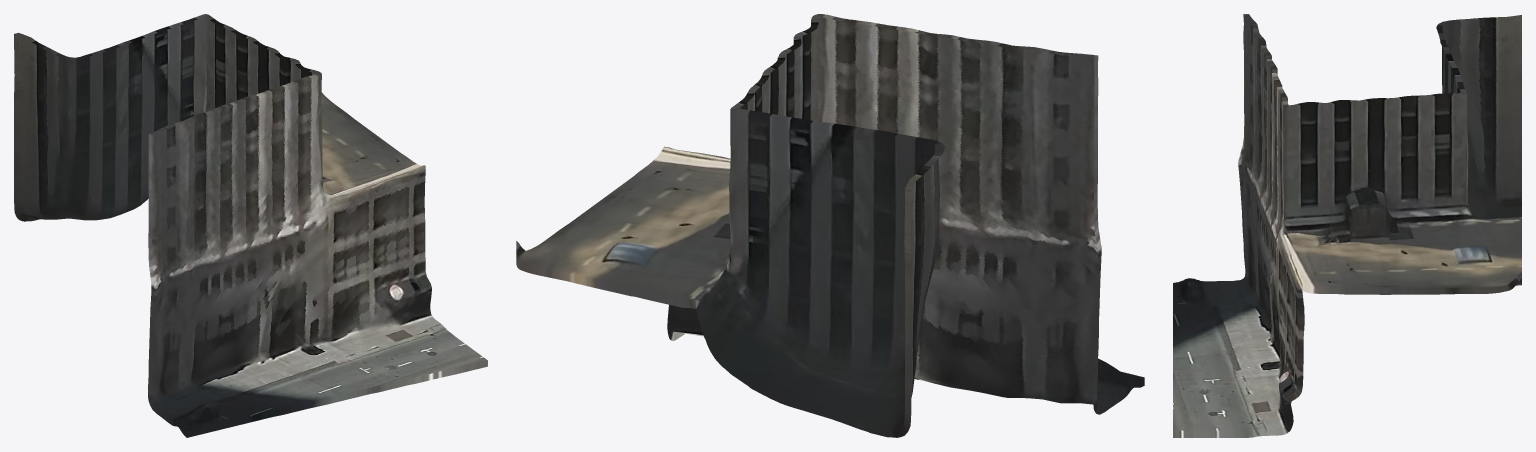
File: z20-167772-405234-h0-yup-uvflip-v3-world.glb
3 renders of one model, left to right at view 1: azimuth 30°, elevation 25°; view 2: azimuth 150°, elevation 25°; view 3: azimuth 270°, elevation 25°, orthographic. The views are drawn at different scales.
Bounding box in the file's own units: 30.16 × 26.6 × 30.32.
Materials: 1 (1 with a texture image).
